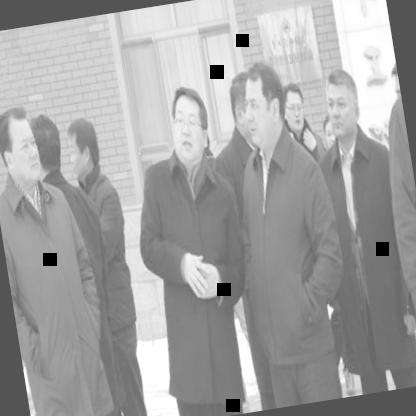head: (0, 100, 55, 197), (162, 80, 219, 172), (234, 60, 289, 150), (224, 64, 266, 154), (320, 64, 366, 142), (22, 108, 68, 183), (59, 112, 104, 186), (278, 72, 311, 144)
